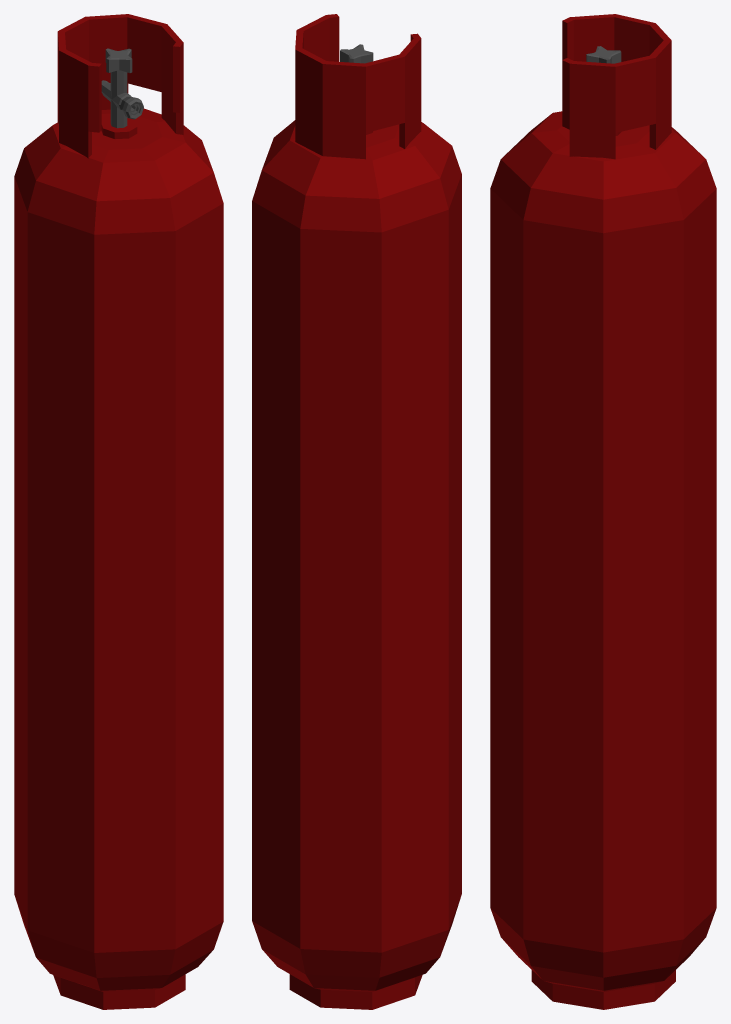
File: LP_Propane_01.fbx
3 views of the same model, side by side, from view 1: azimuth 30°, elevation 25°; view 2: azimuth 150°, elevation 25°; view 3: azimuth 270°, elevation 25° (orthographic).
Parts seen in each view (by area): view 1: LP_Propane_01; view 2: LP_Propane_01; view 3: LP_Propane_01.
Boxes of the visible parts, x1,y1,x2,y2 form: LP_Propane_01: [14, 14, 223, 1009]; LP_Propane_01: [252, 14, 461, 1009]; LP_Propane_01: [490, 14, 716, 1009].
Bounding box in the file's own units: 0.3006 × 1.48 × 0.3217.
